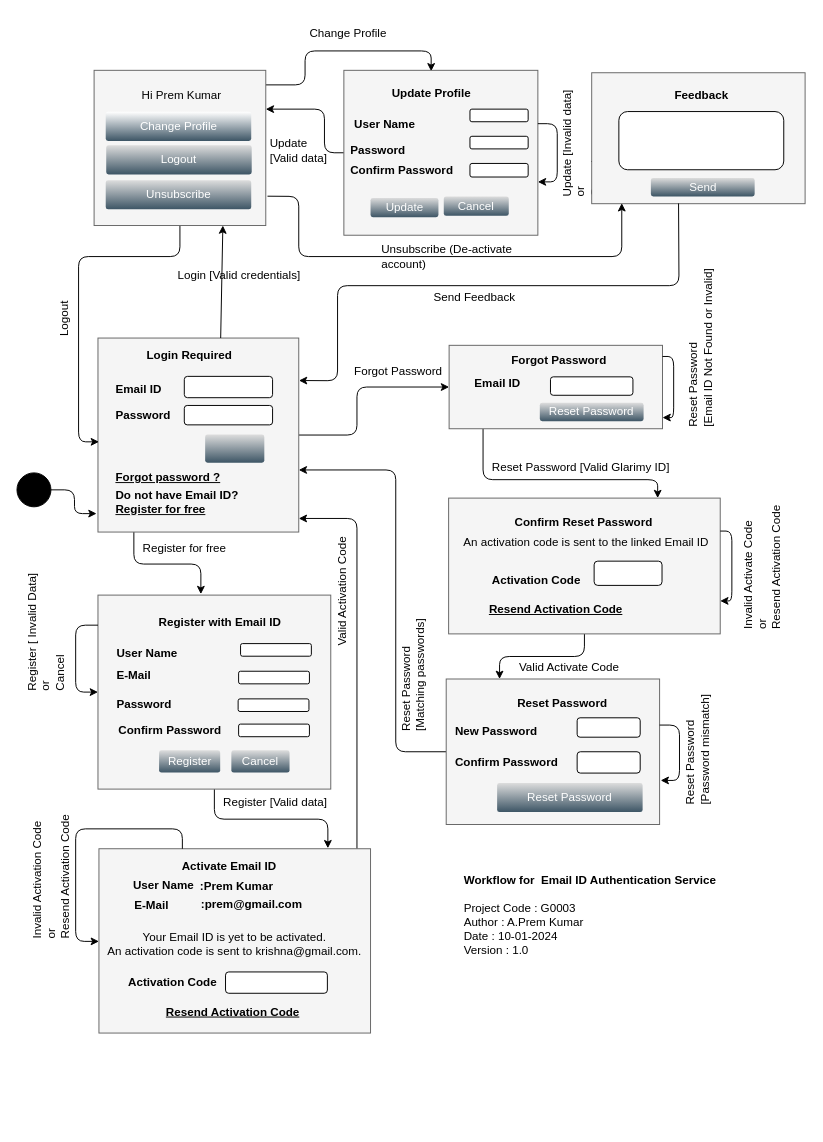
The diagram is 823 pixels wide and 1142 high, and some of its shapes have lost their labels. The box of each missing label's shape, as (x1, y1, x2, y2) in pixels:
Login: (204, 434, 264, 463)
START: (16, 472, 51, 507)
